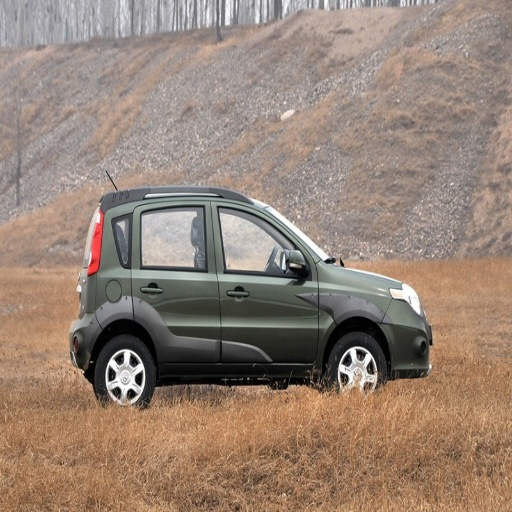back_right_door: (133, 195, 220, 363)
front_right_door: (215, 196, 318, 361)
